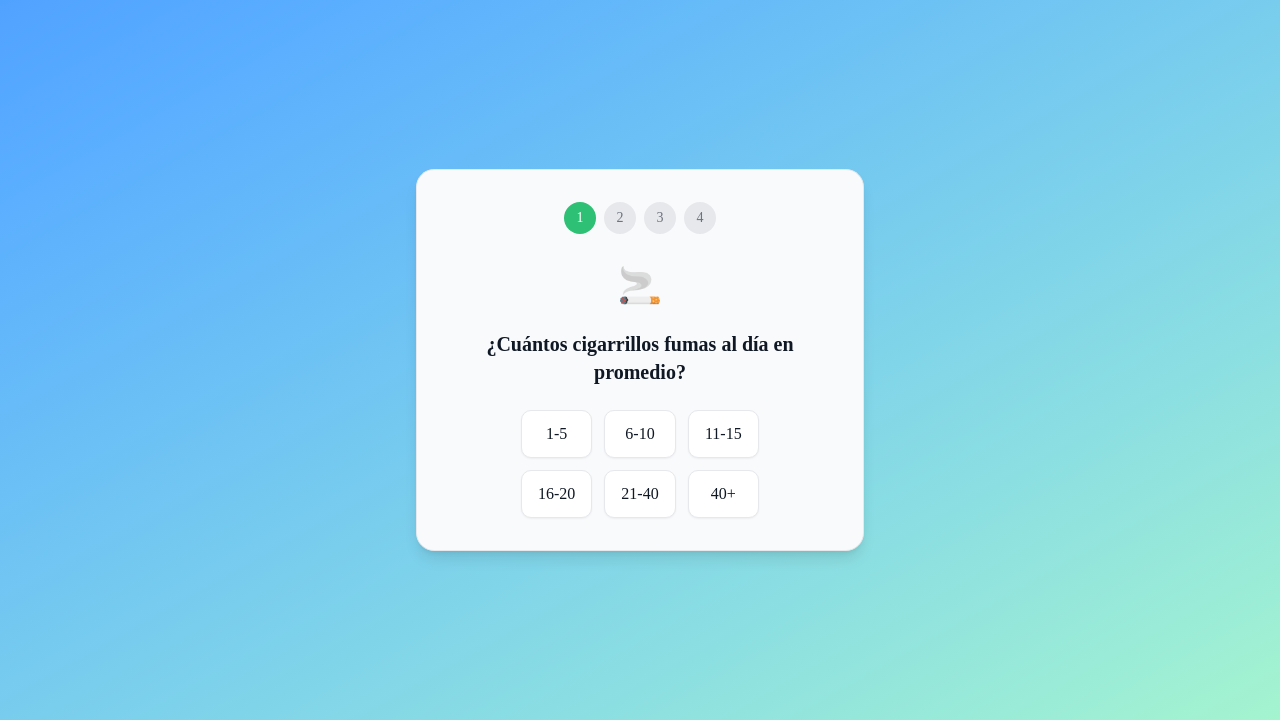
Test case: OnboardingWizard › clears error on next submission
Click the button "6-10". click: {"x": 640, "y": 434}
box: x1=604 y1=410 x2=676 y2=458
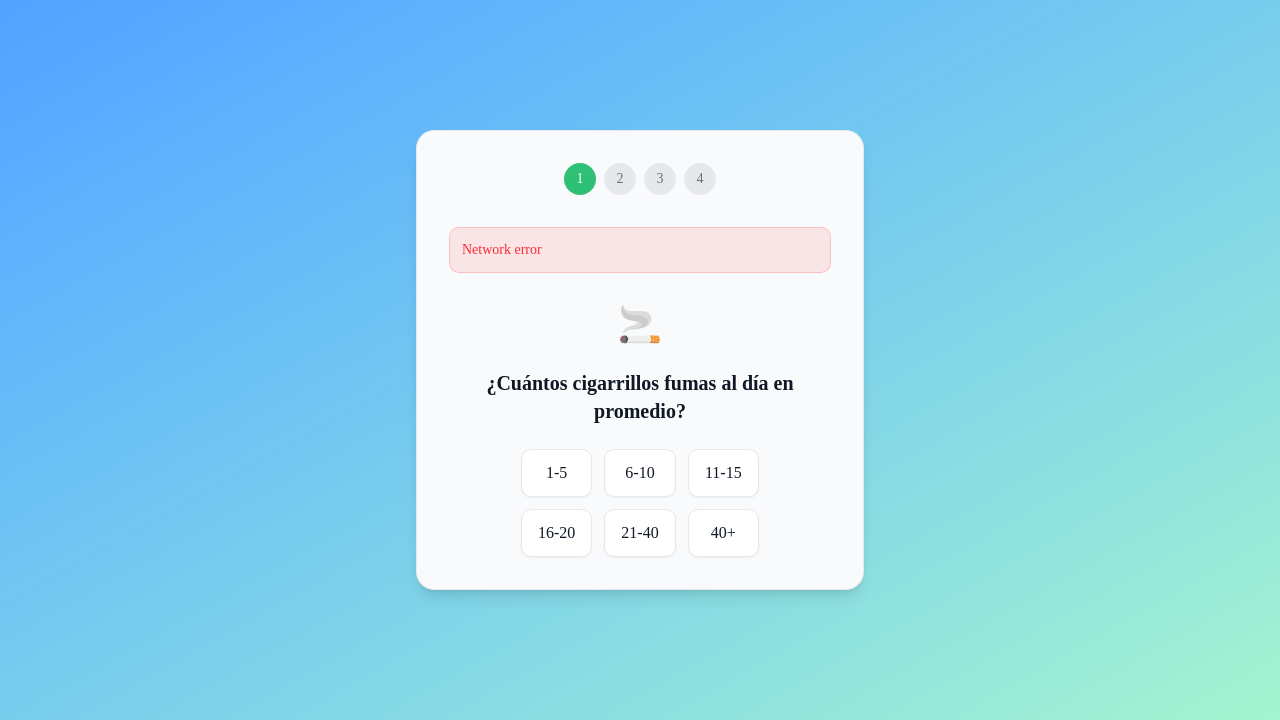
Now the message "Network error" is shown, box x1=449 y1=227 x2=831 y2=273
Click again — error should clear
Click the button "6-10". click: {"x": 640, "y": 473}
box: x1=604 y1=449 x2=676 y2=497
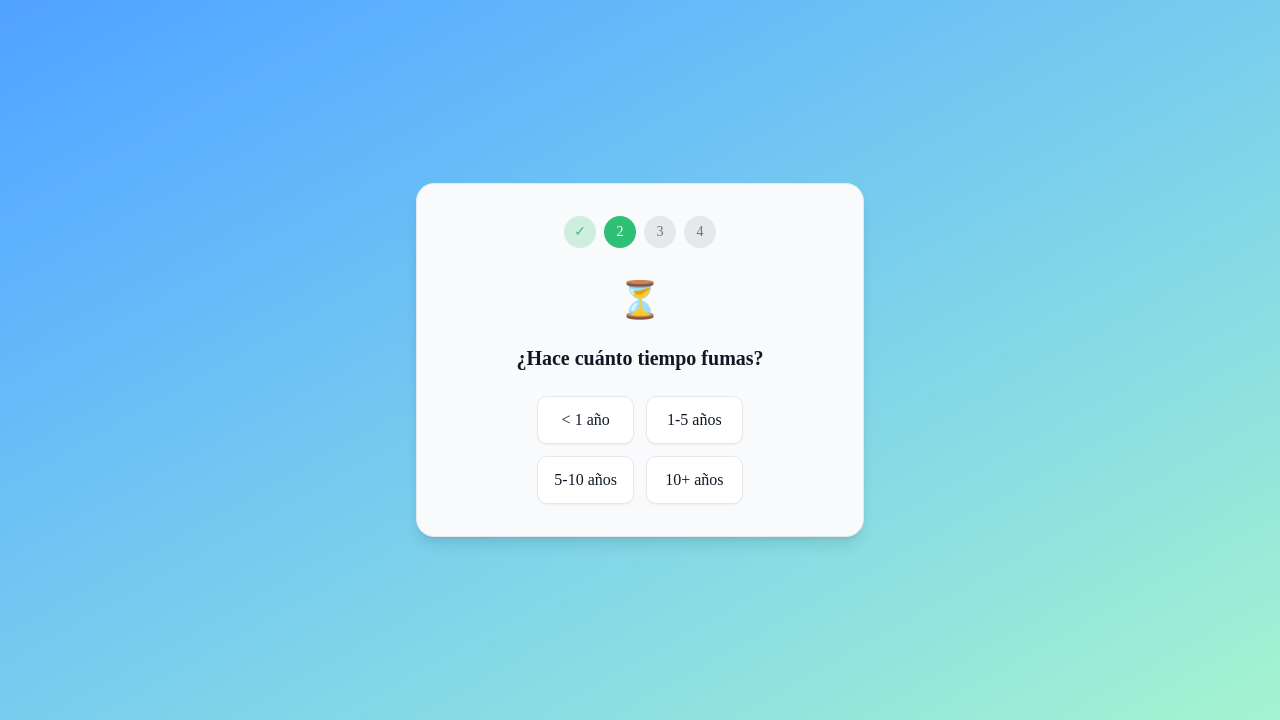
Now the message "Network error" is gone
